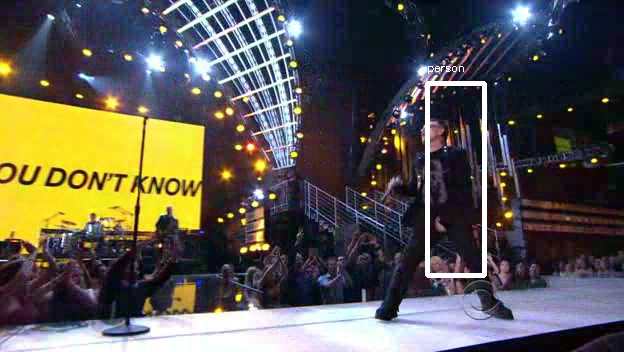person: (405, 119, 470, 226), (402, 119, 467, 226), (408, 119, 473, 226), (405, 116, 470, 223), (405, 122, 470, 229)
target_negative: (161, 95, 622, 337), (340, 50, 360, 218), (356, 255, 392, 323), (366, 112, 382, 180), (306, 86, 610, 87), (479, 150, 497, 162)
